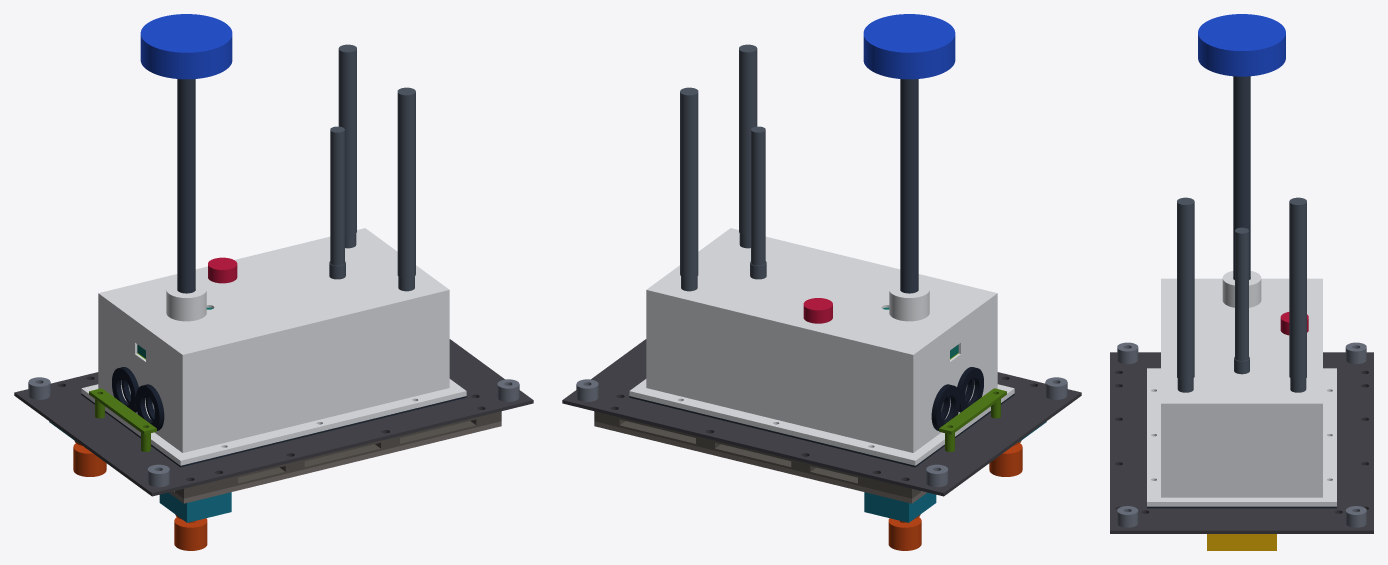
3 views of the same model, side by side, from view 1: azimuth 30°, elevation 25°; view 2: azimuth 150°, elevation 25°; view 3: azimuth 270°, elevation 25° (orthographic). The views are drawn at different scales.
Parts seen in each view (by area): view 1: Lid, Core plate, Antennas, GNSS receiver and compass, GNSS mast, Rail spacer bars (2), Rail lips (2), Locking pins (2), Grommets (2), Corner spacers (4), Pin blocks (2), Strain-relief bar (+2 smaller); view 2: Lid, Core plate, Antennas, GNSS receiver and compass, GNSS mast, Rail spacer bars (2), Rail lips (2), Locking pins (2), Grommets (2), Corner spacers (4), Pin blocks (2), Strain-relief bar (+2 smaller); view 3: Lid, Core plate, Antennas, GNSS receiver and compass, GNSS mast, Corner spacers (4), DS-014 pigtail and plug, Lid gasket.
Boxes of the visible parts, x1,y1,x2,y2 form: Lid: (81,228,466,465); Core plate: (14,339,533,496); Antennas: (329,44,415,291); GNSS receiver and compass: (140,14,232,79); GNSS mast: (177,79,195,293); Rail spacer bars (2): (174,410,501,498); Rail lips (2): (169,421,501,503); Locking pins (2): (73,440,207,550); Grommets (2): (112,367,164,430); Corner spacers (4): (28,377,519,487); Pin blocks (2): (49,421,231,522); Strain-relief bar: (89,388,156,451); Lid: (629,228,1014,465); Core plate: (562,339,1081,496); Antennas: (680,44,766,291); GNSS receiver and compass: (863,14,955,79); GNSS mast: (900,79,918,293); Rail spacer bars (2): (594,410,921,498); Rail lips (2): (594,421,926,503); Locking pins (2): (888,440,1022,550); Grommets (2): (931,367,983,430); Corner spacers (4): (576,377,1067,487); Pin blocks (2): (864,421,1046,522); Strain-relief bar: (939,388,1006,451); Lid: (1147,271,1336,506); Core plate: (1110,352,1373,533); Antennas: (1177,197,1306,392); GNSS receiver and compass: (1198,14,1285,76); GNSS mast: (1233,76,1250,279); Corner spacers (4): (1117,342,1366,527); DS-014 pigtail and plug: (1207,534,1276,550); Lid gasket: (1147,506,1336,508).
Size of the model in its own units: 0.24 by 0.278 by 0.15.
